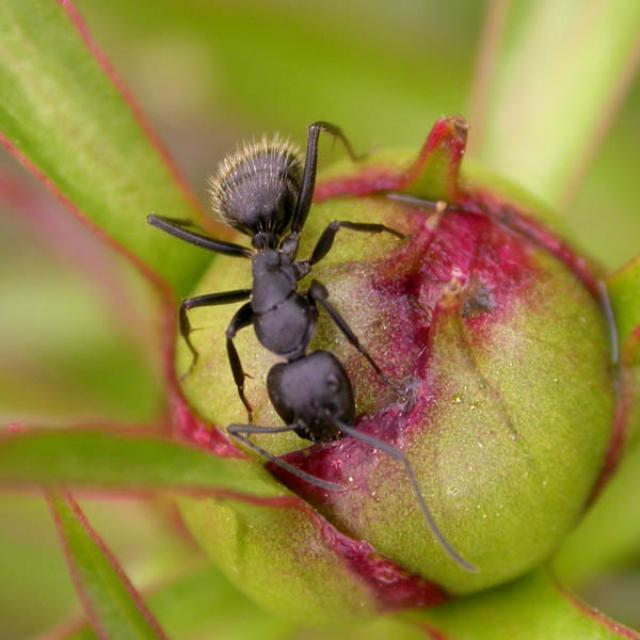Camponotus: (138, 50, 444, 518)
